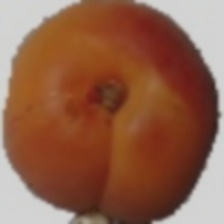apricot: (30, 10, 169, 206)
